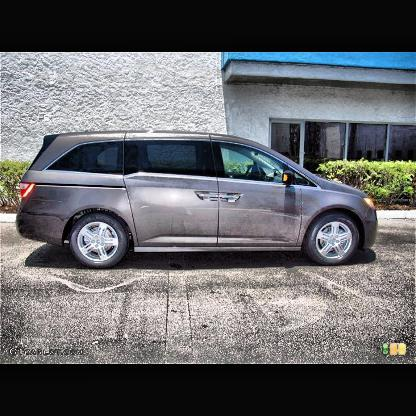Honda Odyssey Minivan 2012: (11, 127, 382, 273)
